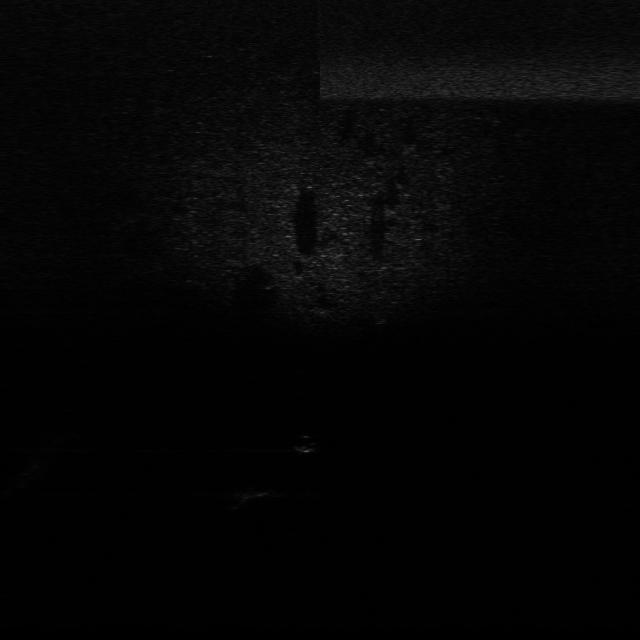ball: (290, 432, 320, 457)
square cage: (232, 484, 277, 504)
tyre: (367, 287, 391, 329)
